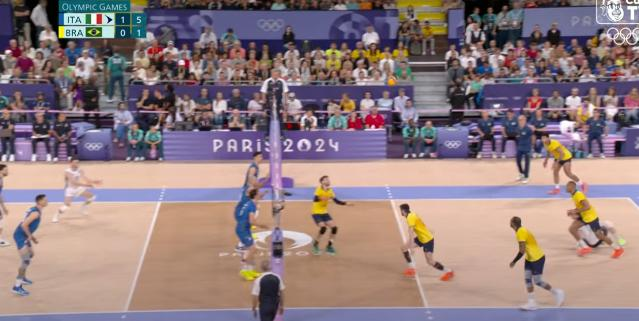Levantador: (310, 174, 356, 254)
Libero: (52, 157, 106, 225)
bola: (387, 74, 397, 88)
